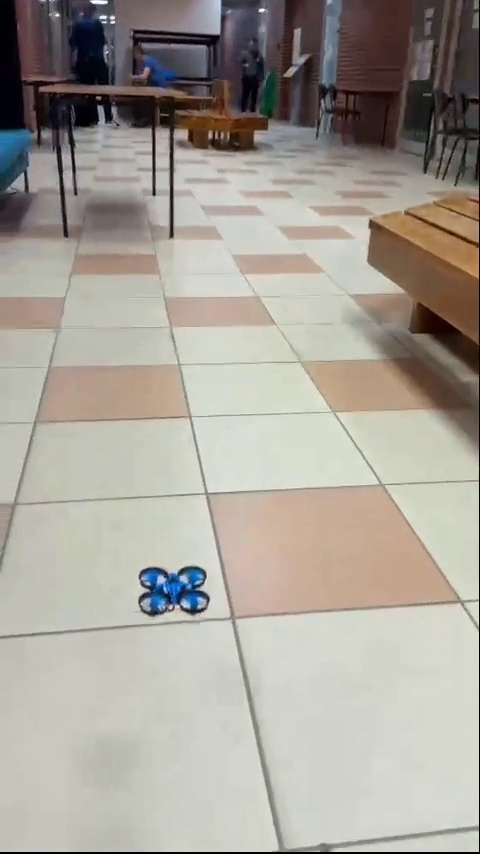drone: (140, 566, 209, 614)
no vest: (69, 3, 119, 124), (125, 39, 180, 97), (231, 30, 265, 114)
